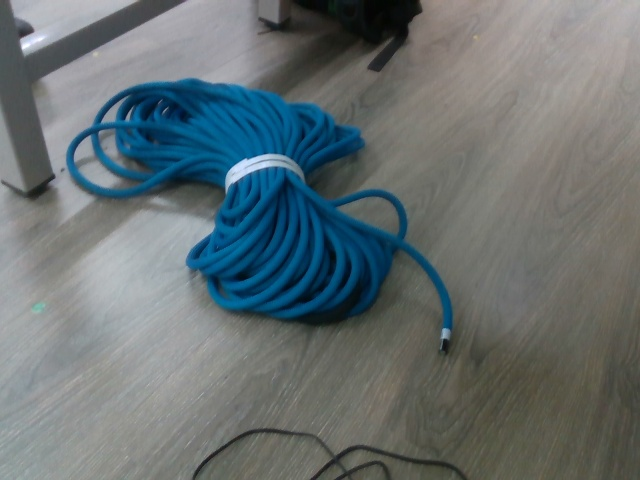rope: (62, 69, 467, 362)
